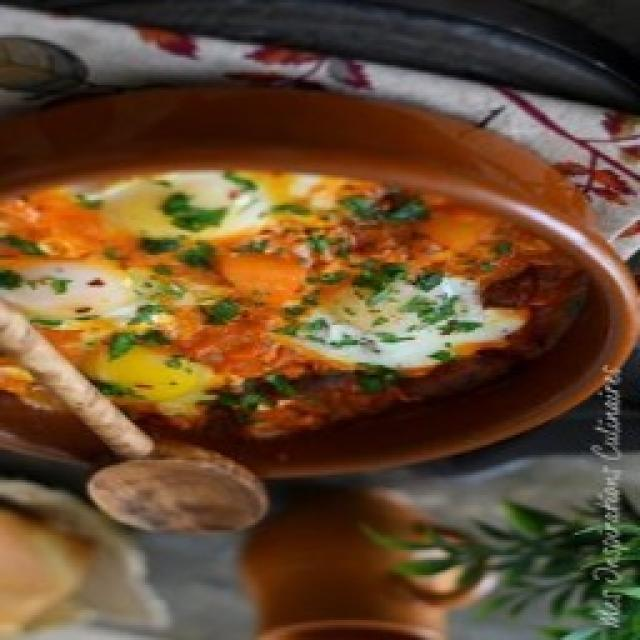Chakchouka: (2, 88, 595, 475)
